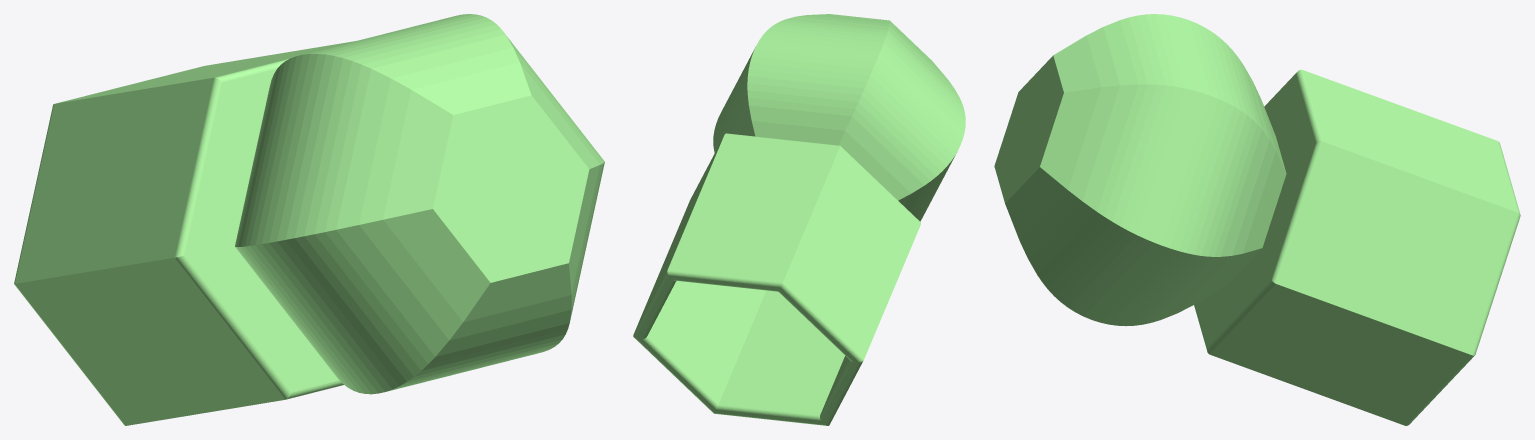
Rendered from curtainrod-endcap.glb.
3 renders of one model, left to right at view 1: azimuth 30°, elevation 25°; view 2: azimuth 150°, elevation 25°; view 3: azimuth 270°, elevation 25°, orthographic. The views are drawn at different scales.
Parts seen in each view (by area): view 1: node_id3; view 2: node_id3; view 3: node_id3.
Boxes of the visible parts, x1,y1,x2,y2 form: node_id3: (14,14,604,425); node_id3: (633,14,965,425); node_id3: (994,14,1520,425).
Bounding box in the file's own units: 0.3845 × 0.4418 × 0.5626.
Materials: 1 (1 with a texture image).
